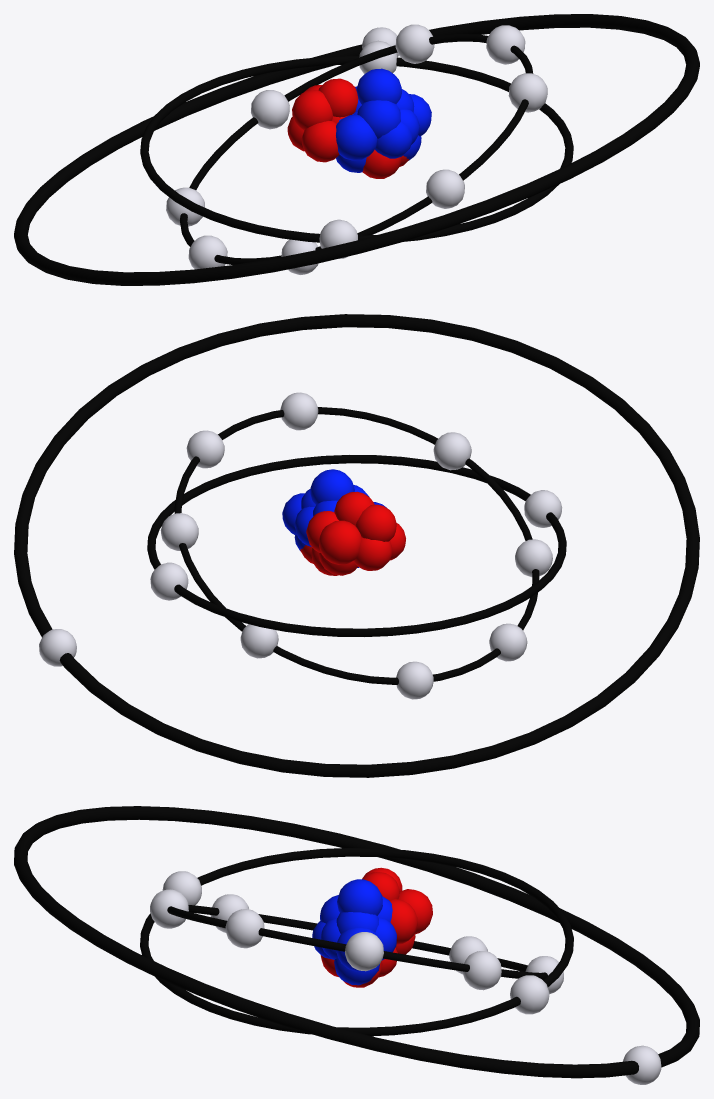
File: 13 Aluminio.fbx
3 renders of one model, top to bottom at view 1: azimuth 30°, elevation 25°; view 2: azimuth 150°, elevation 25°; view 3: azimuth 270°, elevation 25°, orthographic. The views are drawn at different scales.
Visible parts, largest first — view 1: Orbita.003, Orbita.001, Orbita.002, Neutron.004, Neutron.001, Sphere.002, Electron.008, Electron.007, Electron.006, Sphere.004, Electron.004, Electron.003 (+10 smaller); view 2: Orbita.003, Orbita.001, Orbita.002, Neutron.002, Neutron.004, Sphere.004, Electron.008, Electron.009, Electron.004, Electron.002, Electron.010, Electron.006 (+8 smaller); view 3: Orbita.003, Orbita.001, Orbita.002, Neutron.004, Neutron.003, Neutron.002, Electron.003, Electron.004, Electron.006, Electron, Electron.008, Electron.005 (+6 smaller).
Part boxes in pixels (<box>): Orbita.003: <box>14,14,699,285</box>; Orbita.001: <box>140,55,573,242</box>; Orbita.002: <box>180,34,533,264</box>; Neutron.004: <box>355,68,414,138</box>; Neutron.001: <box>336,112,377,172</box>; Sphere.002: <box>301,121,339,162</box>; Electron.008: <box>426,169,464,208</box>; Electron.007: <box>251,90,289,129</box>; Electron.006: <box>395,24,434,63</box>; Sphere.004: <box>292,90,333,130</box>; Electron.004: <box>508,73,547,112</box>; Electron.003: <box>486,25,525,64</box>; Orbita.003: <box>14,314,699,777</box>; Orbita.001: <box>147,455,566,636</box>; Orbita.002: <box>174,407,539,684</box>; Neutron.002: <box>306,511,361,575</box>; Neutron.004: <box>301,469,369,516</box>; Sphere.004: <box>356,504,396,541</box>; Electron.008: <box>433,432,471,470</box>; Electron.009: <box>396,661,433,699</box>; Electron.004: <box>280,392,318,430</box>; Electron.002: <box>489,623,527,661</box>; Electron.010: <box>515,539,552,577</box>; Electron.006: <box>160,513,198,550</box>; Orbita.003: <box>14,806,699,1078</box>; Orbita.001: <box>140,848,573,1036</box>; Orbita.002: <box>167,905,547,979</box>; Neutron.004: <box>320,879,392,933</box>; Neutron.003: <box>321,918,396,985</box>; Neutron.002: <box>390,889,432,954</box>; Electron.003: <box>345,932,383,971</box>; Electron.004: <box>225,909,264,948</box>; Electron.006: <box>462,951,501,990</box>; Electron: <box>510,975,549,1014</box>; Electron.008: <box>150,889,188,928</box>; Electron.005: <box>623,1045,661,1084</box>.
Bounding box in the file's own units: 11.74 × 12.03 × 3.73.
